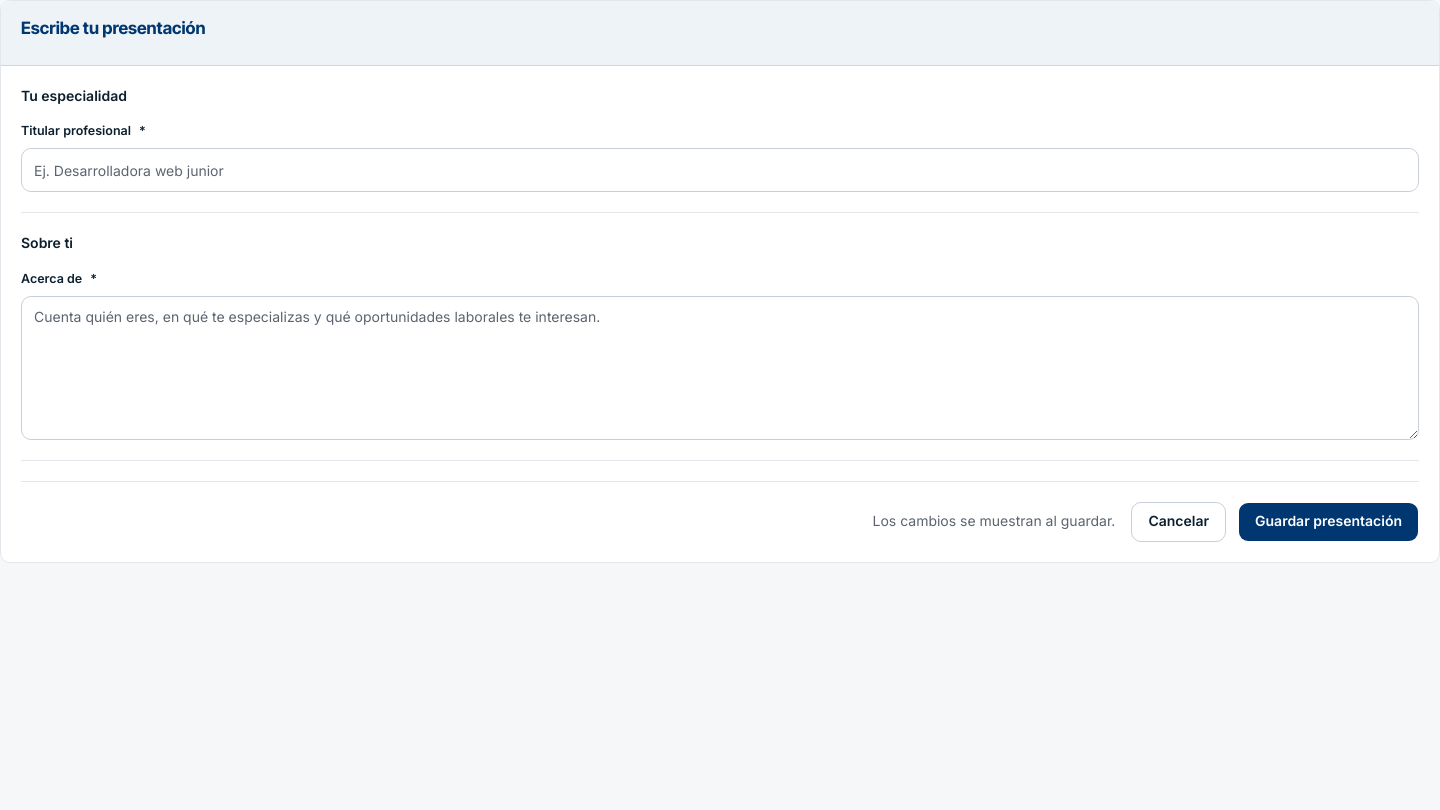
it: PresentationForm › clears the errors when cancelling
Click the button "Guardar presentación": (1328, 522) [1238, 502, 1419, 542]
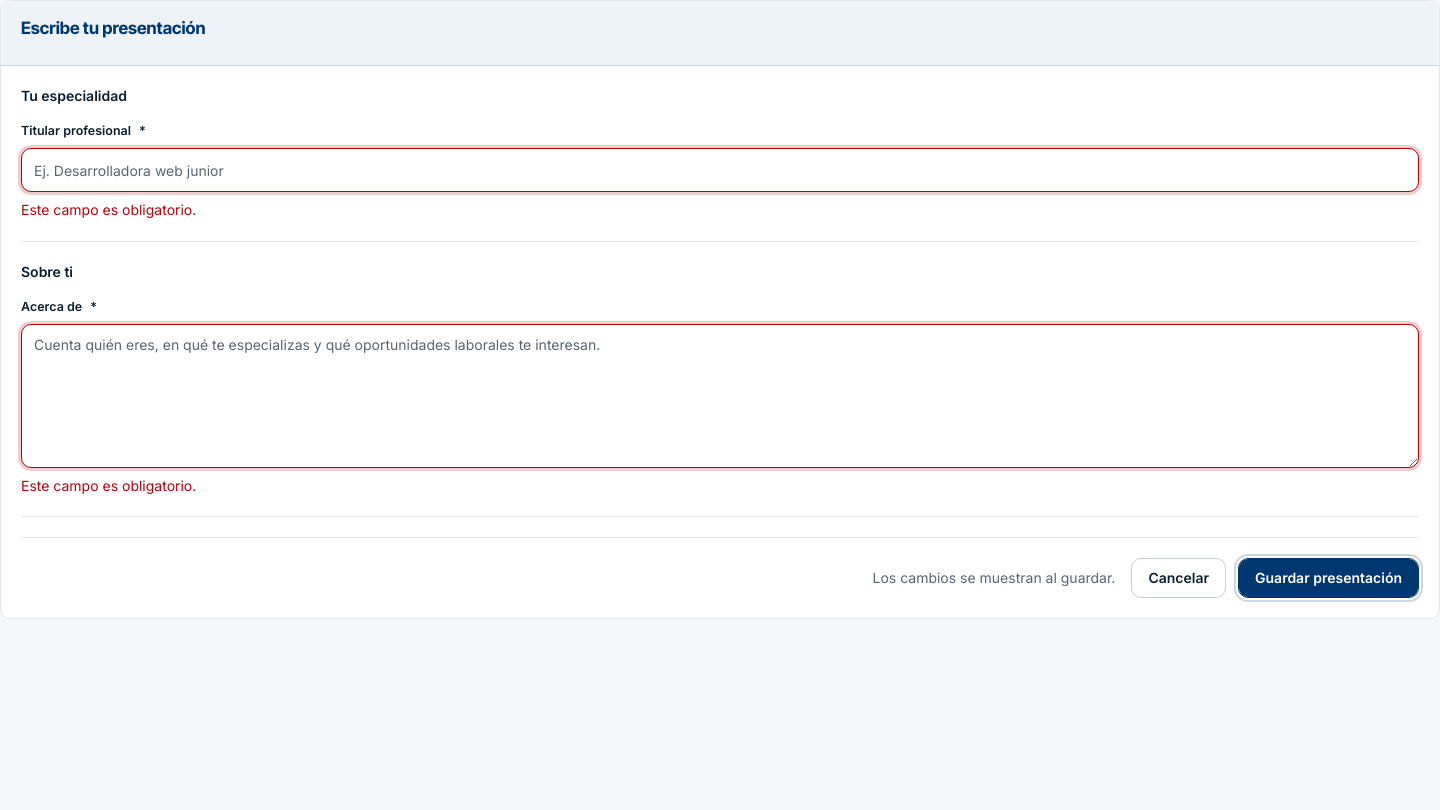
Click the button "Cancelar": (1179, 578) [1131, 558, 1226, 598]
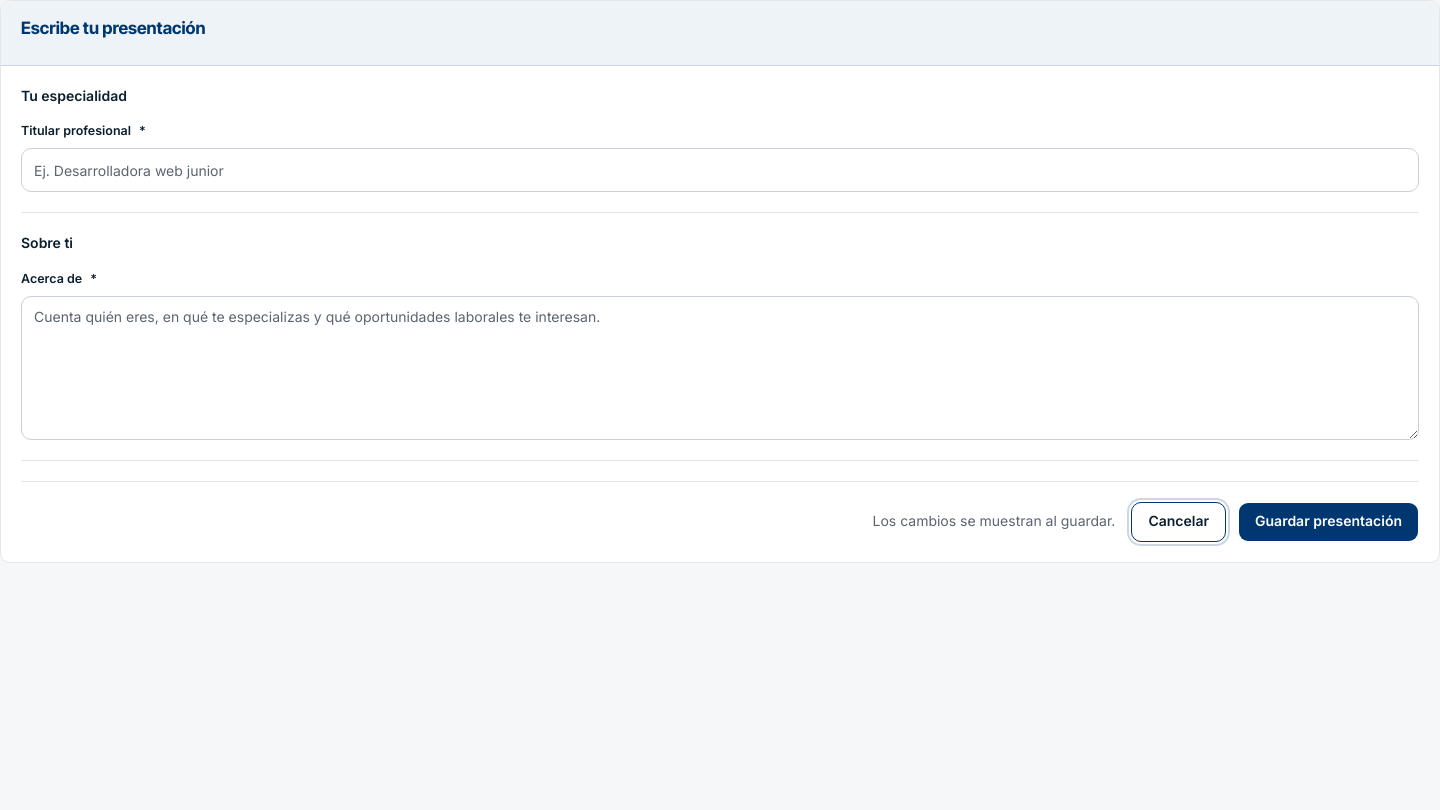
Check: the text "Este campo es obligatorio." is gone
